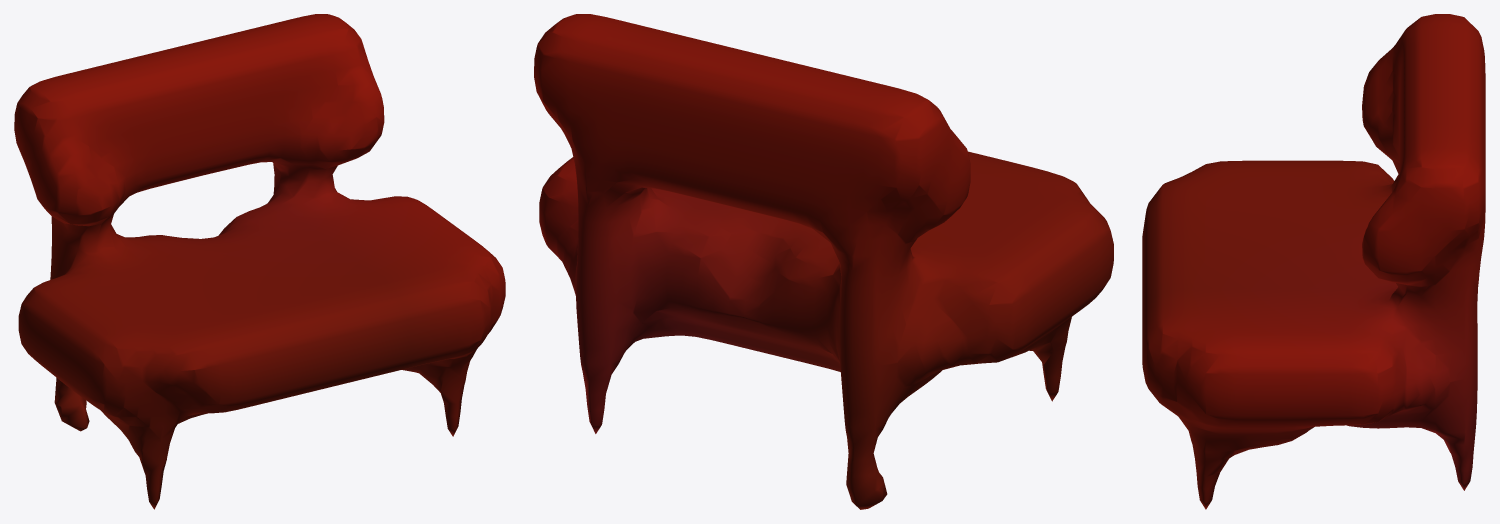
The model's file is SheenChair_064B_voxs.glb.
The picture shows the model from 3 angles, left to right: view 1: azimuth 30°, elevation 25°; view 2: azimuth 150°, elevation 25°; view 3: azimuth 270°, elevation 25°; orthographic projection. The views are drawn at different scales.
Size of the model in its own units: 1.99 by 1.63 by 1.4.
